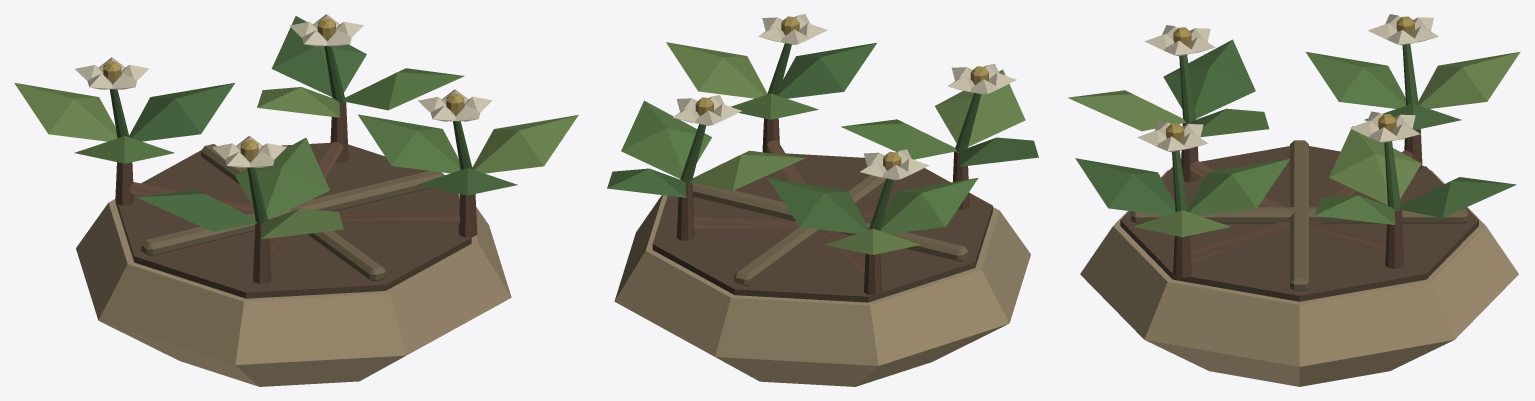
The model's file is wild_strawberry_packed_spring_picked.glb.
3 views of the same model, side by side, from view 1: azimuth 30°, elevation 25°; view 2: azimuth 150°, elevation 25°; view 3: azimuth 270°, elevation 25° (orthographic). The views are drawn at different scales.
Visible parts, largest first — view 1: wild_strawberry_packed_spring_picked; view 2: wild_strawberry_packed_spring_picked; view 3: wild_strawberry_packed_spring_picked.
Part boxes in pixels (<box>): wild_strawberry_packed_spring_picked: <box>14,14,578,386</box>; wild_strawberry_packed_spring_picked: <box>607,14,1038,386</box>; wild_strawberry_packed_spring_picked: <box>1067,14,1520,386</box>.
Size of the model in its own units: 1.29 by 0.767 by 1.24.
